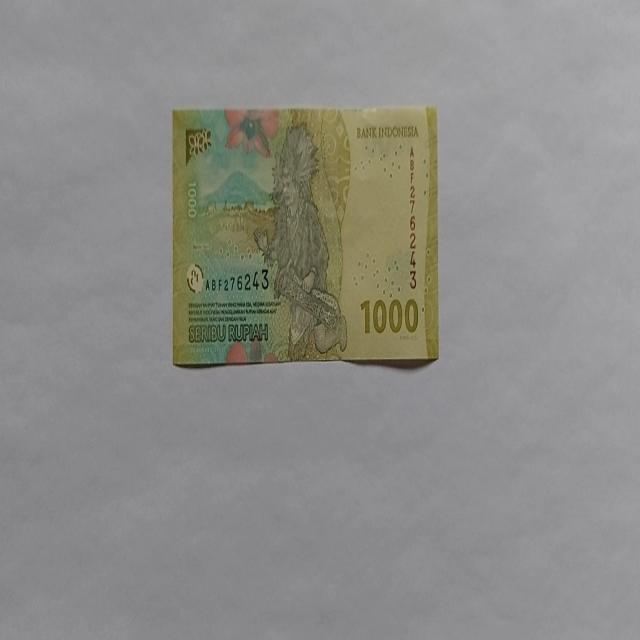seribu rupiah kertas: (171, 104, 439, 367)
